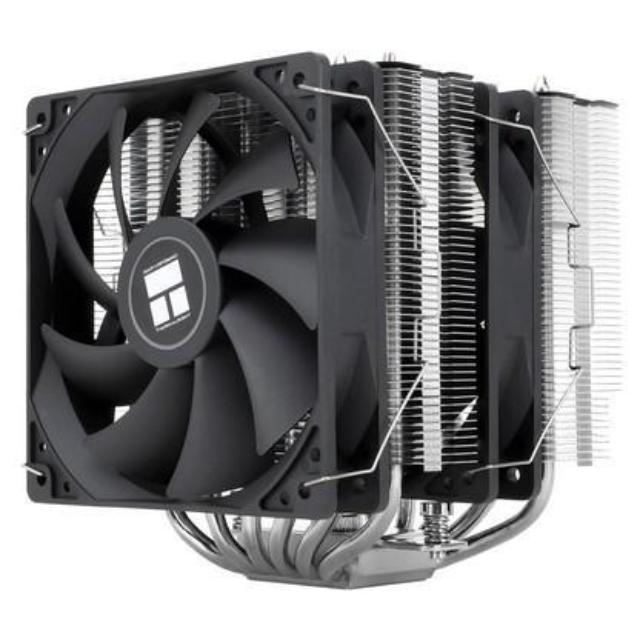CPU_Fan: (23, 50, 625, 588)
